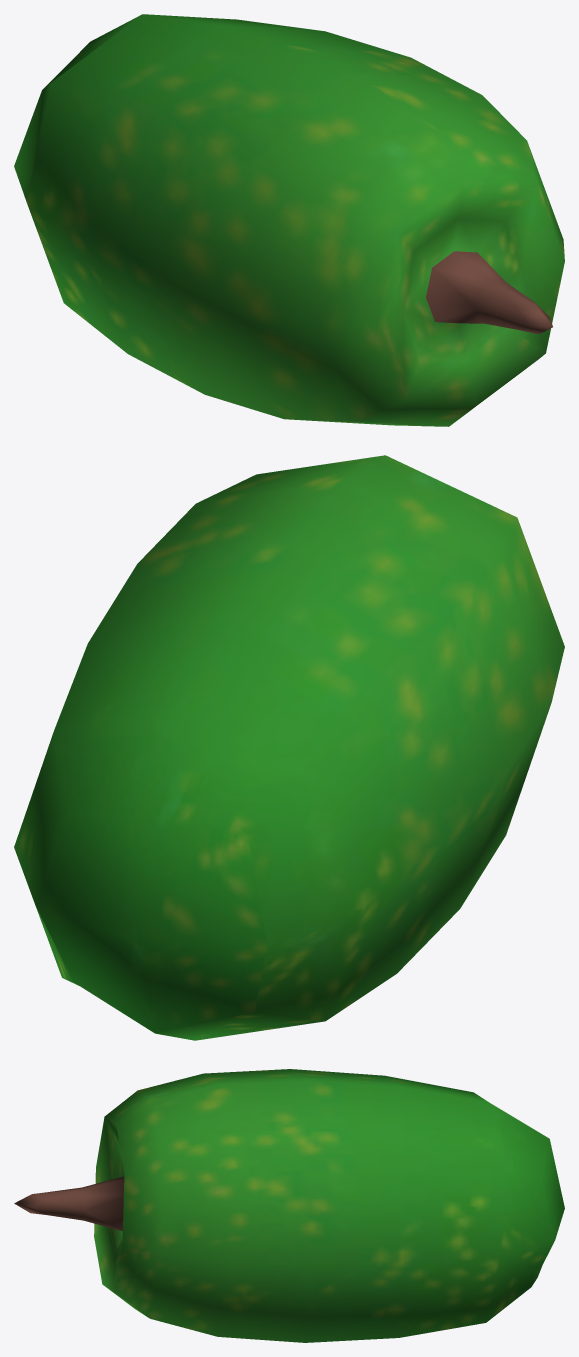
The model's file is Bushlime (1).fbx.
The picture shows the model from 3 angles, top to bottom: view 1: azimuth 30°, elevation 25°; view 2: azimuth 150°, elevation 25°; view 3: azimuth 270°, elevation 25°; orthographic projection. The views are drawn at different scales.
Visible parts, largest first — view 1: Bushlime; view 2: Bushlime; view 3: Bushlime.
Boxes of the visible parts, x1=… form: Bushlime: x1=14, y1=14, x2=564, y2=426; Bushlime: x1=14, y1=455, x2=564, y2=1040; Bushlime: x1=14, y1=1069, x2=564, y2=1342.
Bounding box in the file's own units: 0.4101 × 0.3947 × 0.7822.
Materials: 1 (1 with a texture image).
